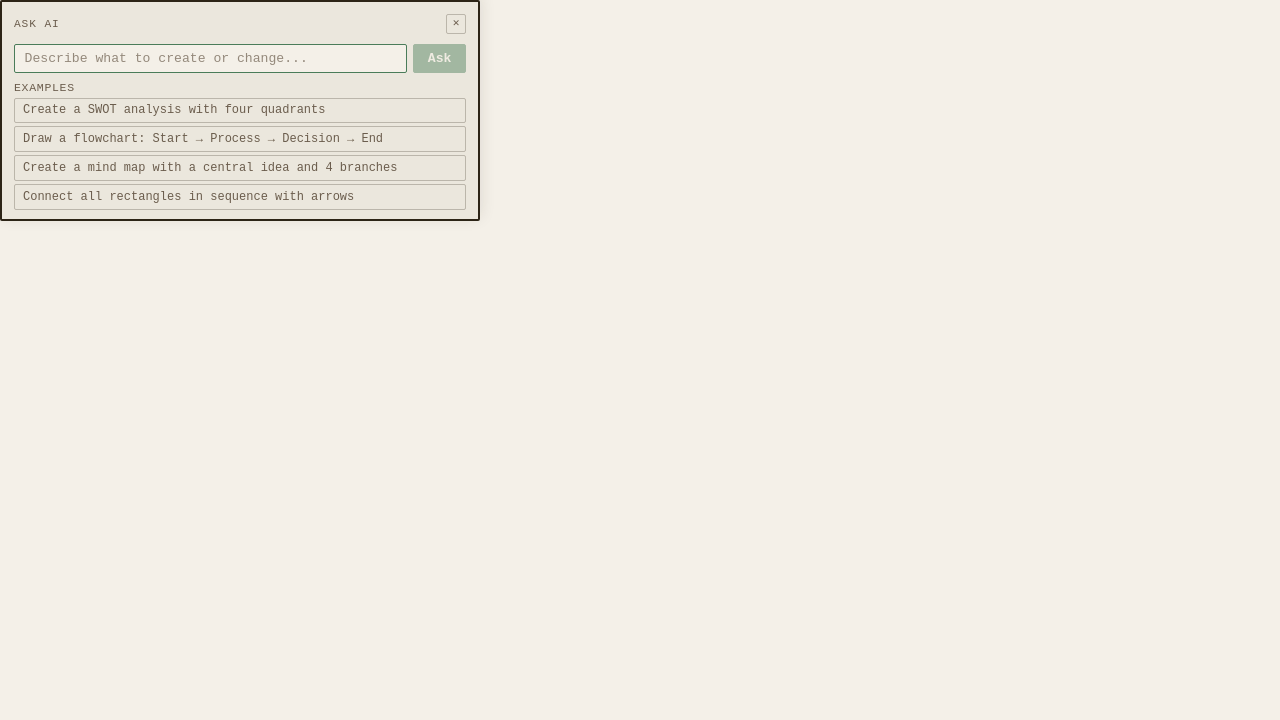
Test: AgentPanel › clicking an example command populates the input
Step 1. Click the button "Create a SWOT analysis with four quadrants" → (240, 110), box [14, 98, 466, 123]
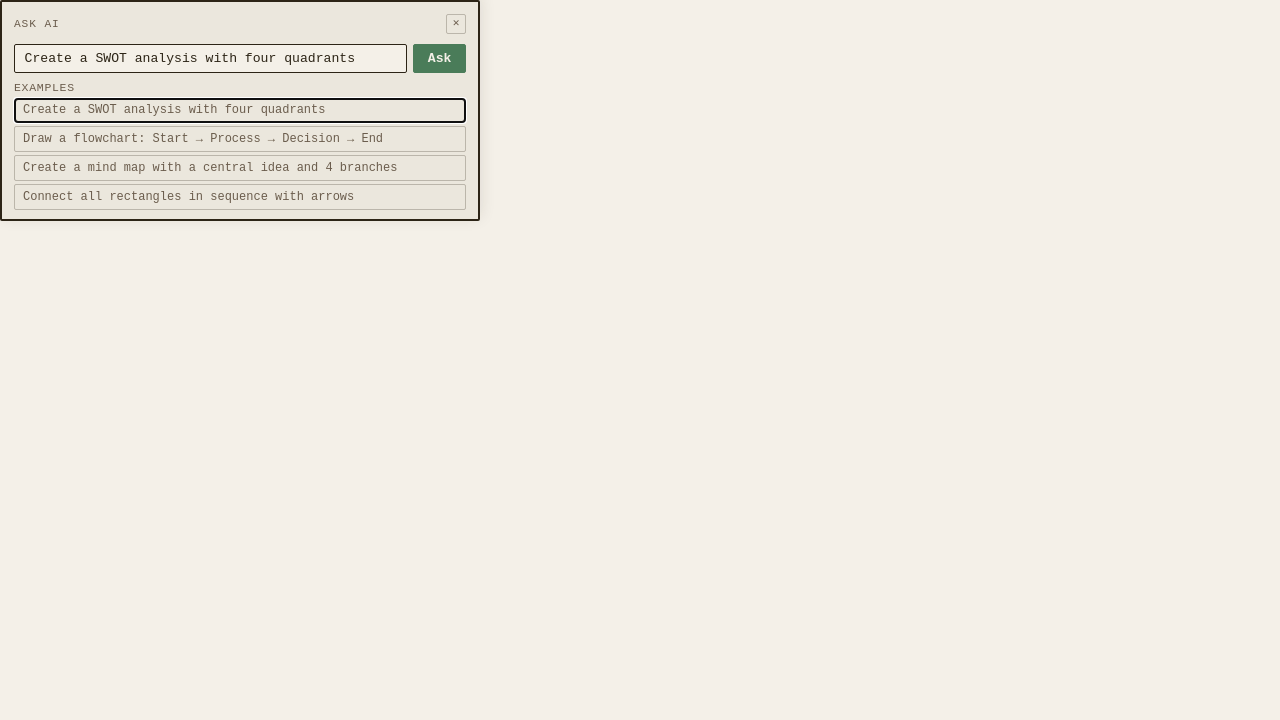
Expected: the field named "ai command" is not empty, [14, 44, 407, 73]
